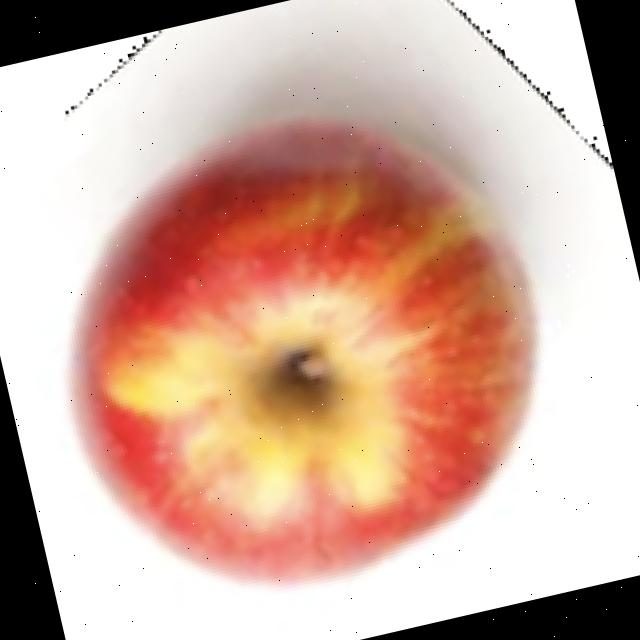apple: (57, 35, 545, 596)
